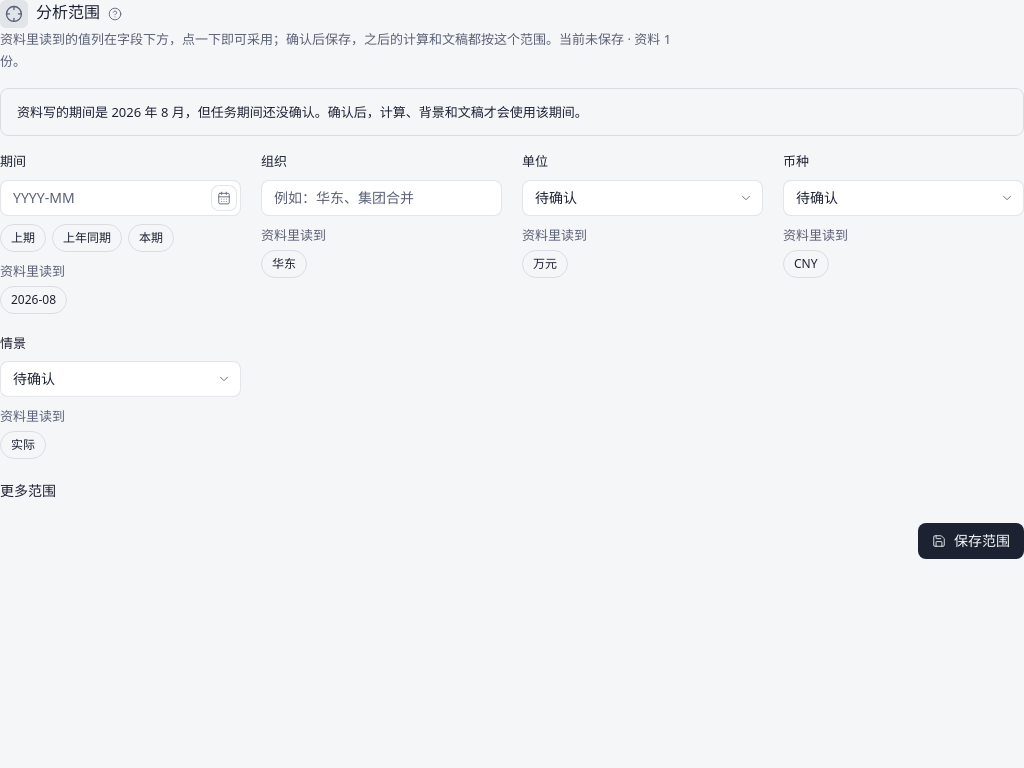
Scenario: business result components › offers the values the files declare as one click each
The width and height of the screenshot is (1024, 768).
Click the button with aria-label "采用资料里的组织 华东" at x=284, y=264, box [261,250,307,278]
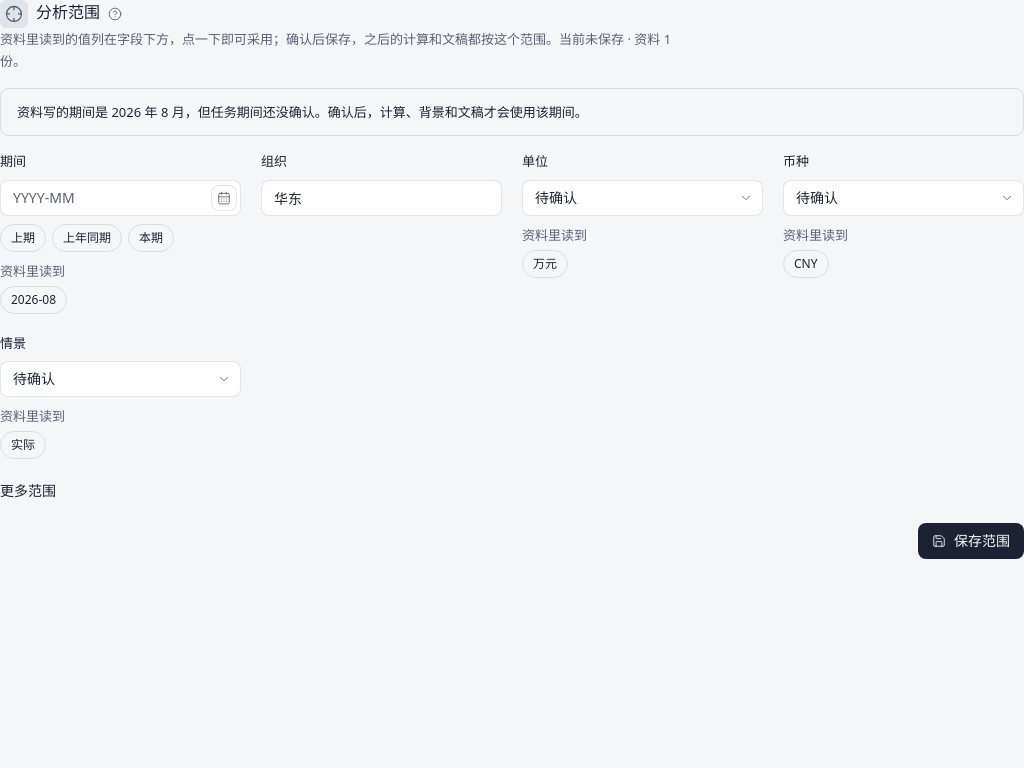
Result: the field named "分析范围组织" holds "华东" at [261,180,502,216]
Click the button named "采用资料里的期间 2026-08" at x=34, y=300, box [0,286,67,314]
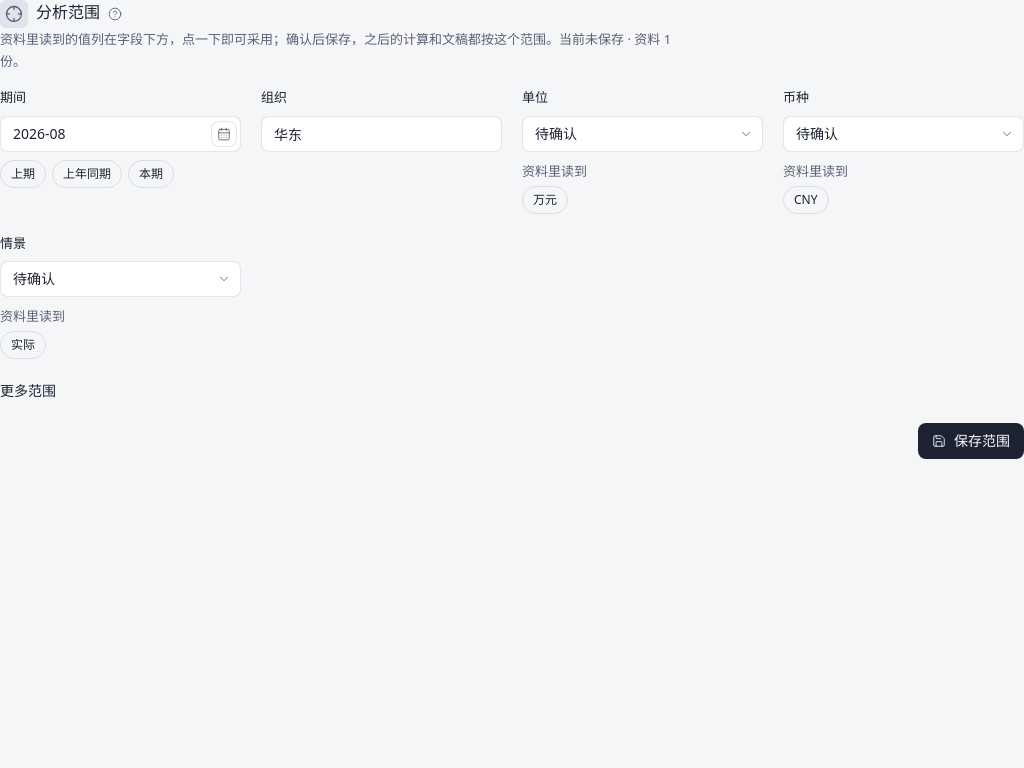
Expected: the button with aria-label "采用资料里的单位 万元" is shown, [522,186,568,214]
Result: the field named "分析范围期间" holds "2026-08" at [0,116,241,152]
Click the button with aria-label "分析范围情景" at x=120, y=279, box [0,261,241,297]
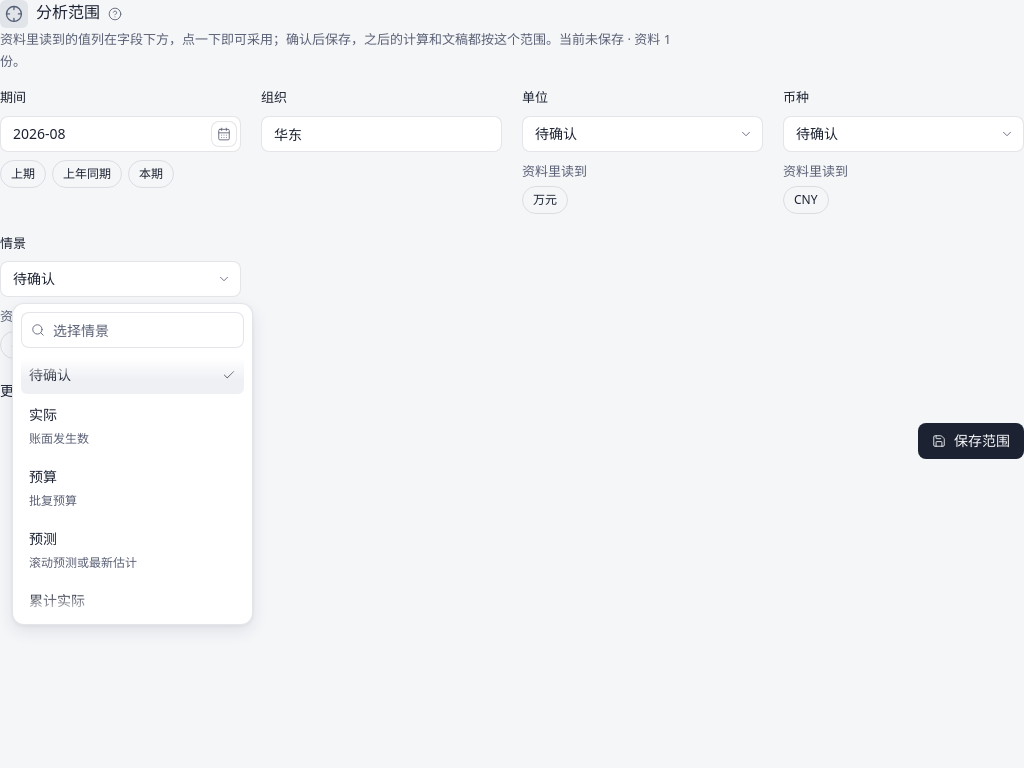
Result: the option "实际 账面发生数" is shown at [29,405,89,447]
Click the button with aria-label "分析范围单位" at x=642, y=134, box [522,116,763,152]
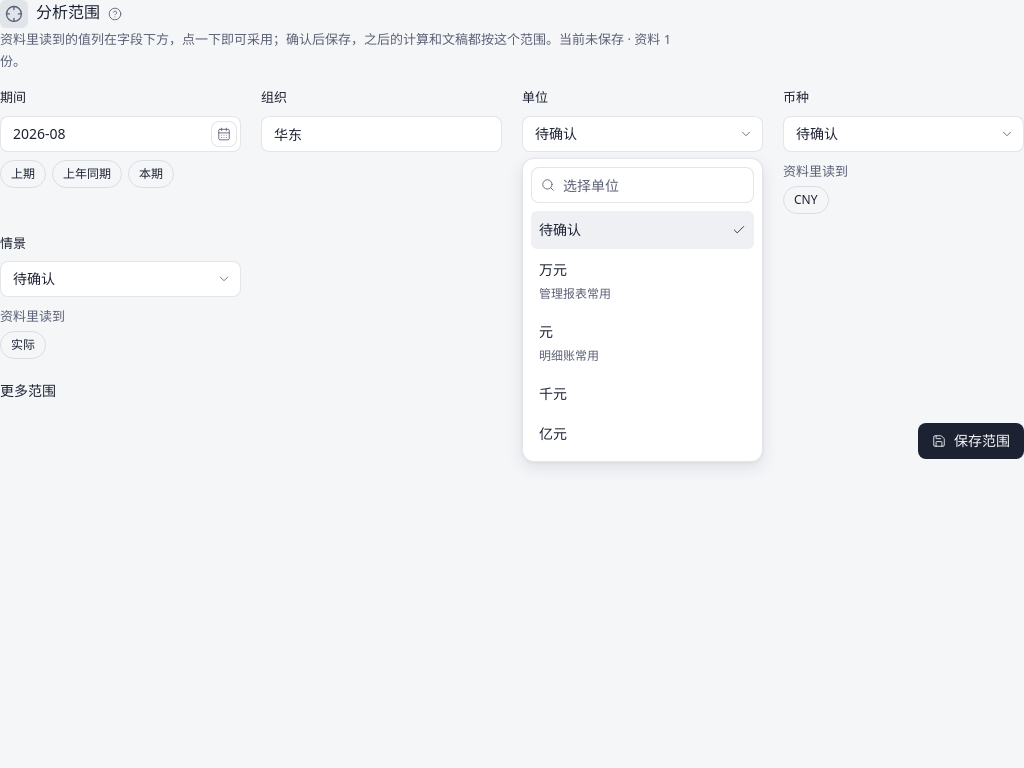
Click the option "万元 管理报表常用" at x=575, y=294, box [539,260,611,302]
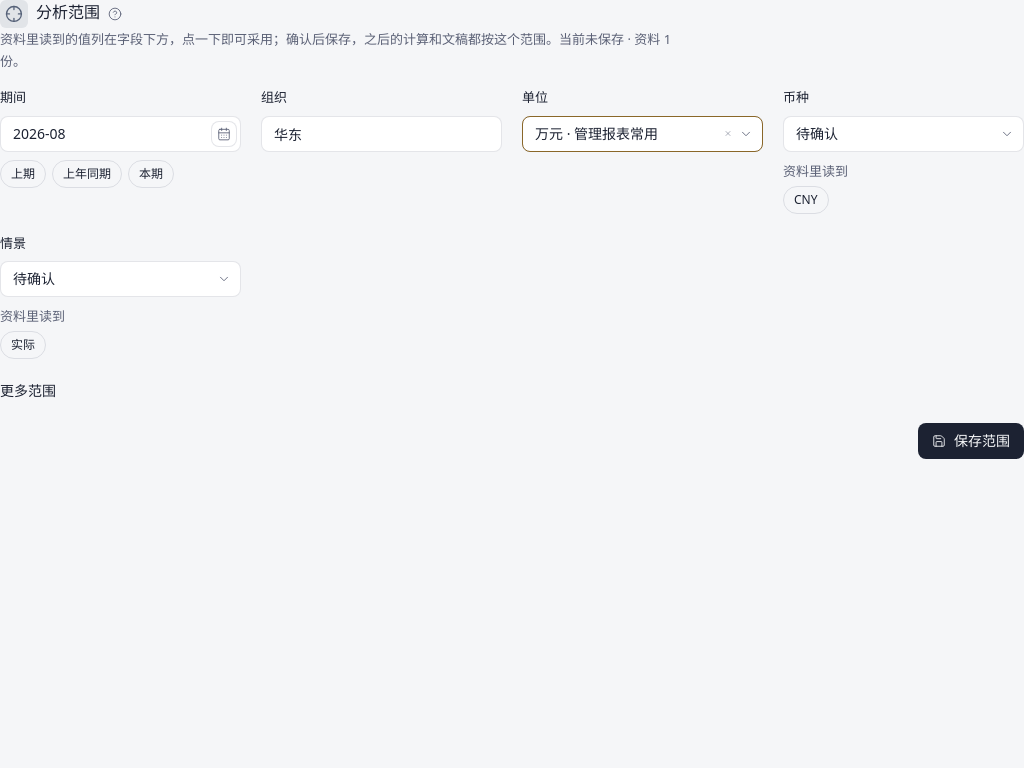
Result: the button with aria-label "分析范围单位" shows "万元" at [522,116,763,152]
